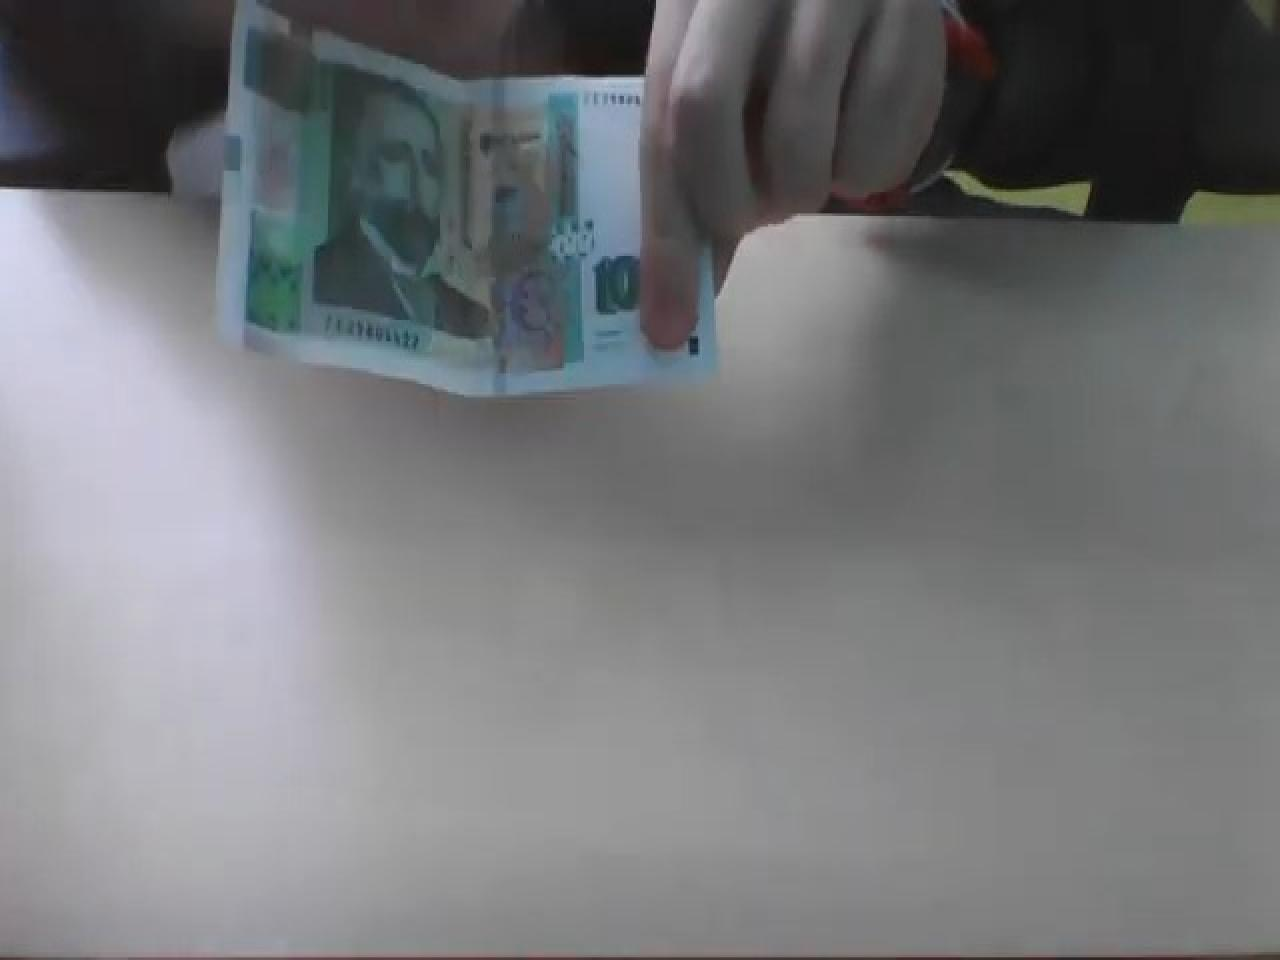100leva: (212, 2, 718, 402)
